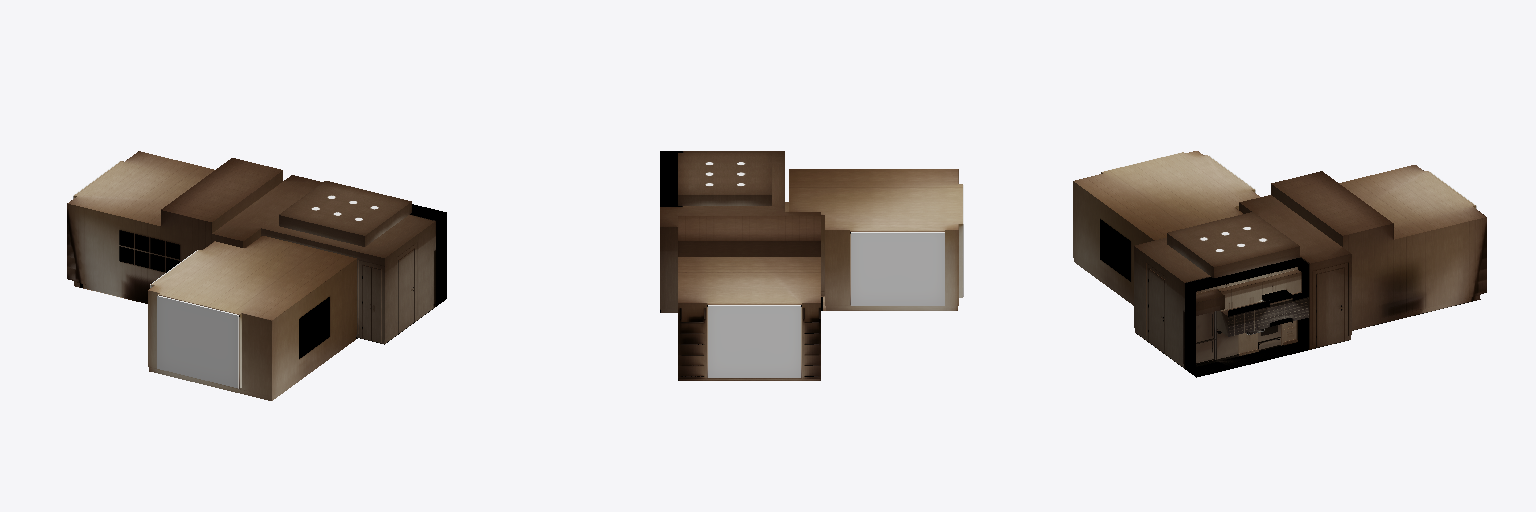
3 views of the same model, side by side, from view 1: azimuth 30°, elevation 25°; view 2: azimuth 150°, elevation 25°; view 3: azimuth 270°, elevation 25° (orthographic).
Visible parts, largest first — view 1: Main; view 2: Main; view 3: Main, Toren1BD_Decor1:Kitchen1 Toren1BD_Decor1:Toren1BD_Decor Toren1BD.
Part boxes in pixels (x1,y1,x2,y2): Main: (67, 151, 446, 400); Main: (660, 151, 963, 380); Main: (1073, 151, 1486, 377); Toren1BD_Decor1:Kitchen1 Toren1BD_Decor1:Toren1BD_Decor Toren1BD: (1185, 267, 1308, 368).
Size of the model in its own units: 9.65 by 3 by 11.56.
3 materials, 2 textured.